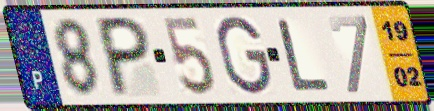5: (159, 15, 218, 98)
7: (326, 14, 371, 95)
8: (51, 15, 103, 100)
G: (214, 14, 274, 97)
L: (276, 17, 334, 93)
P: (97, 14, 152, 100)
